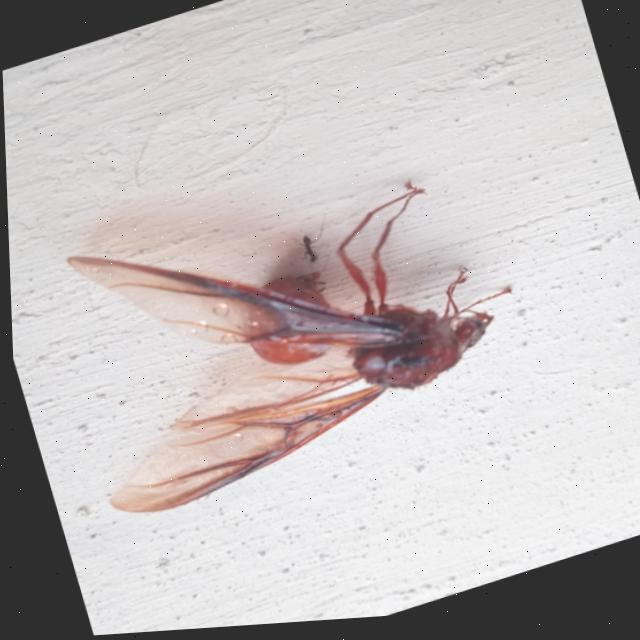Dead-Male-Alate: (35, 132, 543, 532)
